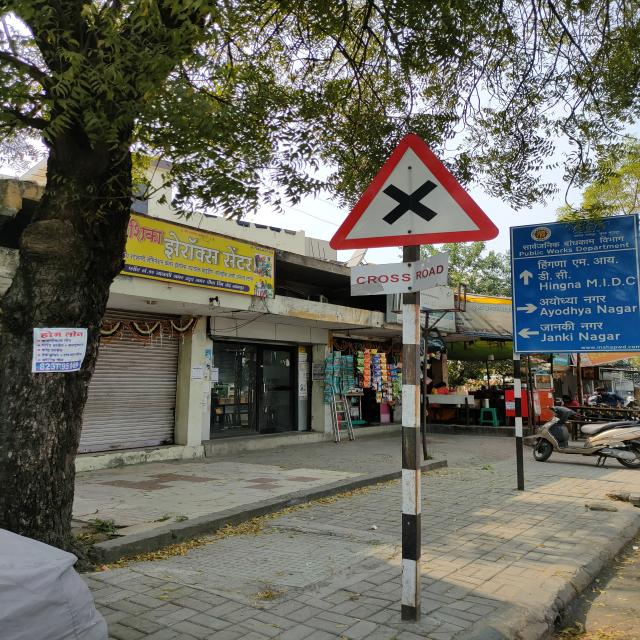cross_road: (327, 128, 499, 260)
